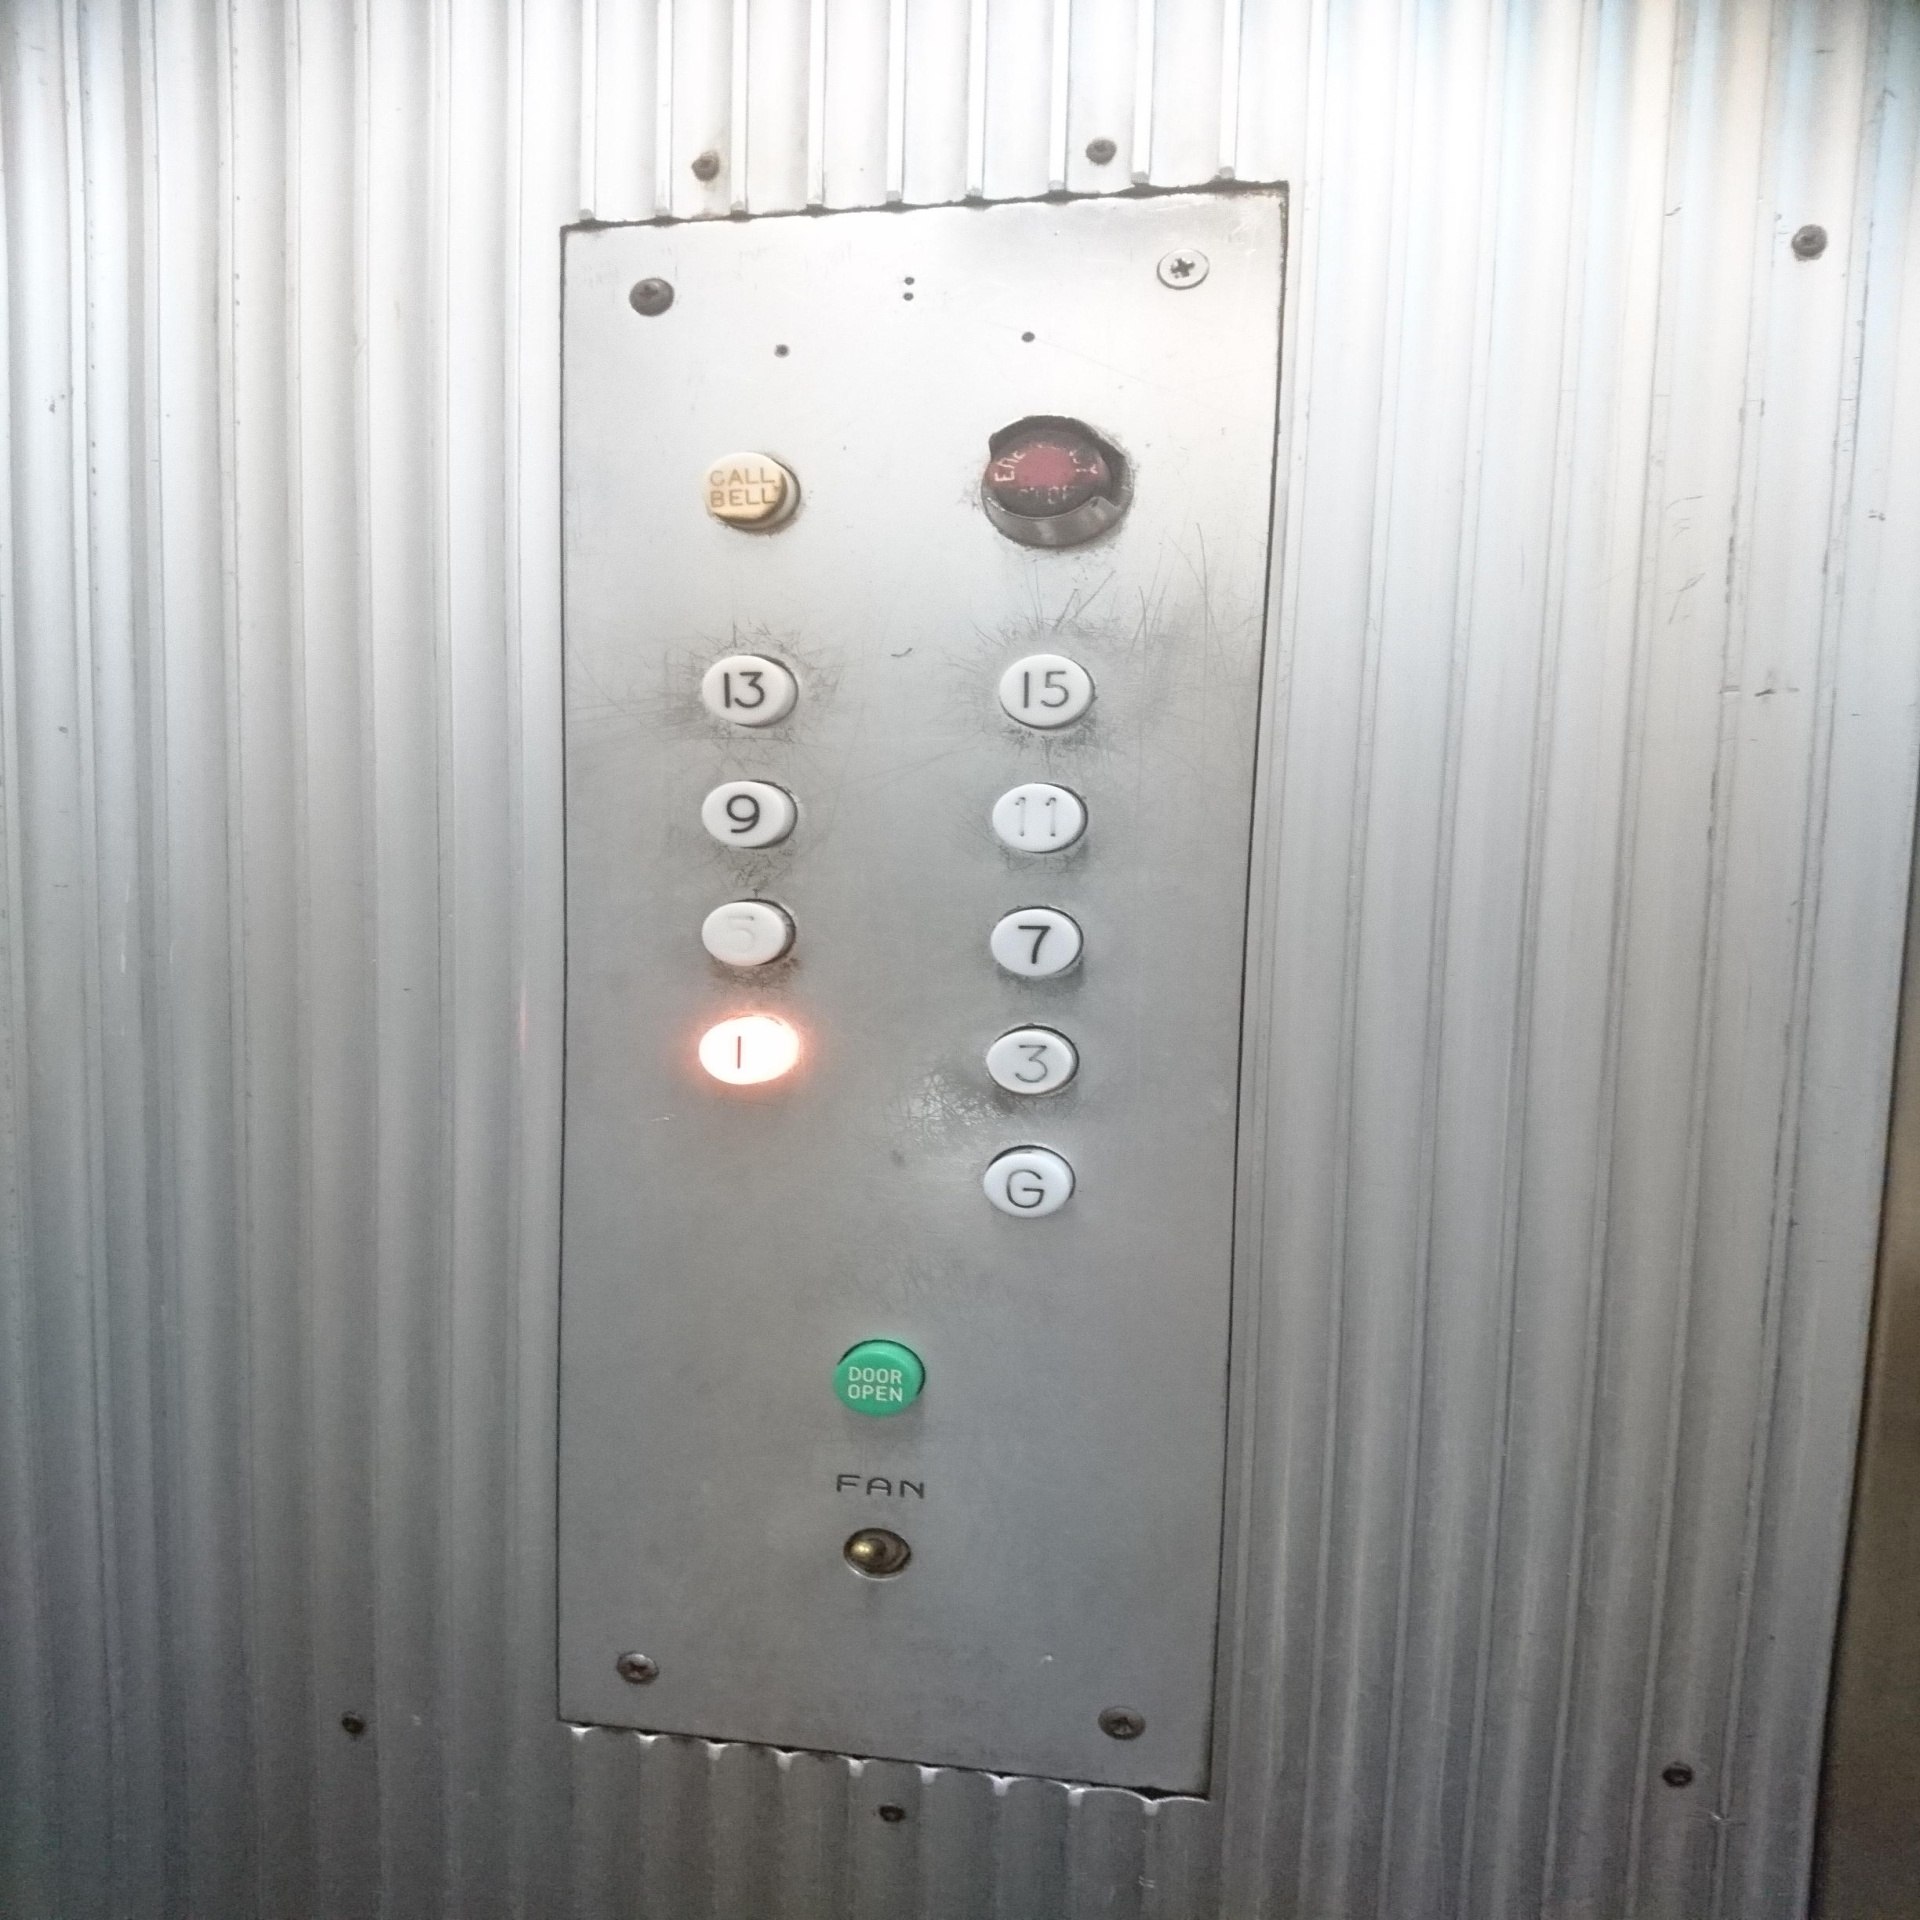1: (691, 1006, 809, 1095)
11: (978, 772, 1095, 862)
13: (691, 645, 809, 737)
15: (985, 645, 1101, 737)
3: (974, 1016, 1092, 1108)
5: (687, 884, 811, 983)
7: (979, 895, 1097, 986)
9: (693, 768, 800, 860)
G: (971, 1136, 1087, 1227)
switch: (833, 1512, 918, 1589)
text: (819, 1333, 935, 1422)
text_blur: (967, 406, 1139, 556)
text_call bell: (689, 440, 814, 540)
